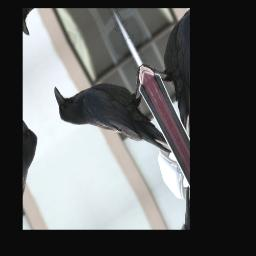Crow: (47, 34, 180, 205)
